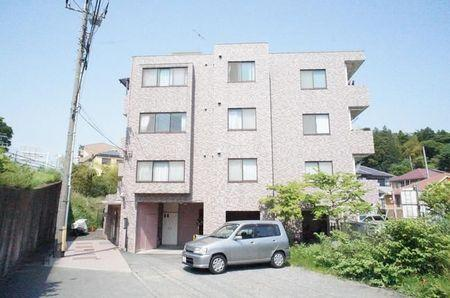car: (181, 220, 289, 275)
